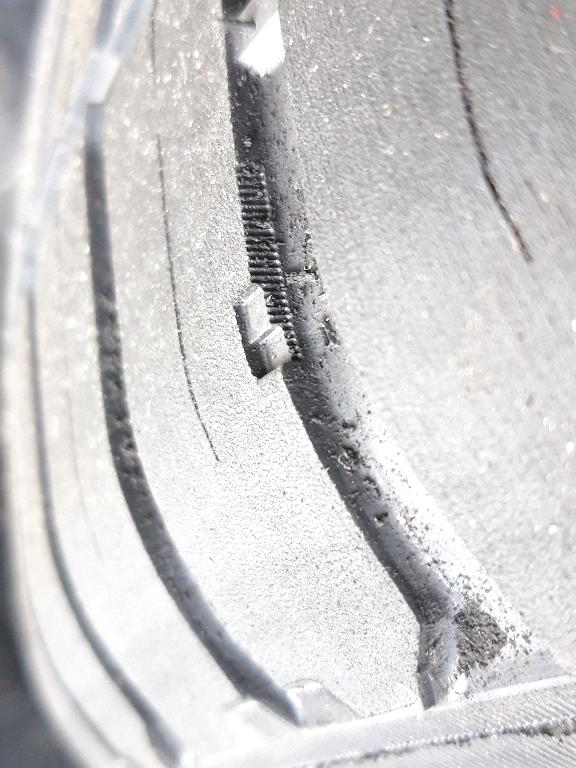temoin:25: (226, 276, 312, 389)
